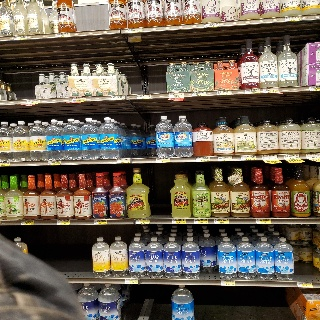All PRICE TAGS: (125, 278, 138, 284), (127, 28, 142, 33), (136, 94, 151, 99), (245, 89, 260, 94), (263, 88, 278, 93), (262, 155, 277, 160), (284, 154, 299, 159), (193, 219, 208, 224), (214, 219, 229, 224), (256, 219, 271, 224), (297, 282, 312, 287), (93, 220, 107, 225), (72, 97, 86, 102), (218, 156, 232, 161), (136, 219, 150, 224), (172, 219, 186, 224), (21, 220, 34, 225), (57, 220, 70, 225), (110, 96, 125, 100), (55, 33, 70, 37), (13, 36, 28, 40), (204, 23, 219, 27), (285, 17, 300, 21), (169, 93, 184, 97), (241, 156, 256, 160), (220, 281, 235, 285), (47, 161, 61, 165), (116, 159, 130, 163), (26, 99, 40, 103), (192, 92, 206, 96), (217, 91, 231, 95), (156, 158, 170, 162), (196, 157, 210, 161), (306, 154, 319, 158), (0, 162, 10, 166), (309, 86, 319, 90)
